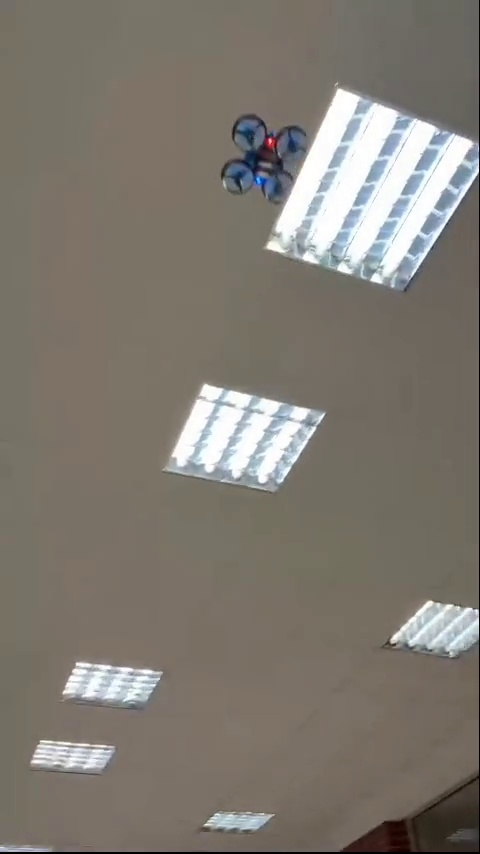drone: (227, 119, 310, 205)
